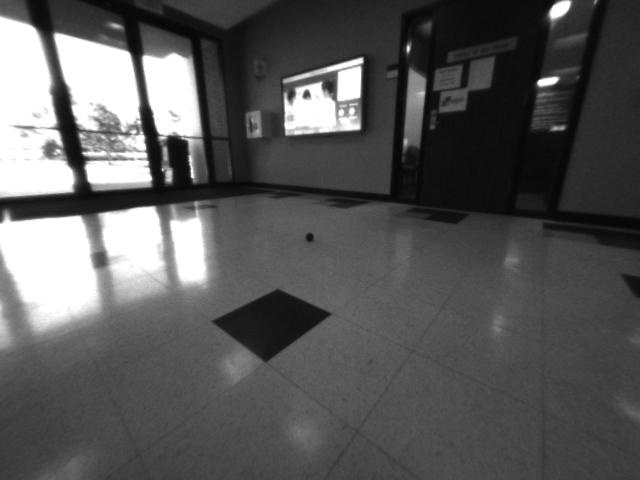dogtoy: (298, 225, 321, 247)
